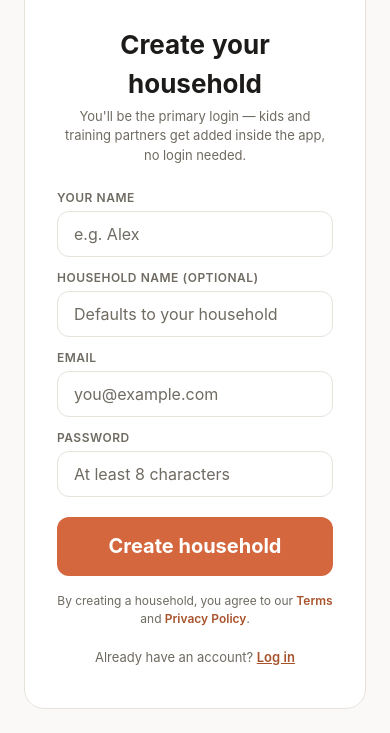
RegisterPage validation › shows inline errors and does not submit when required fields are blank
(page scrolled)
What coordinates should you click on to do the following:
click the button "Create household"
I would click on:
 (195, 547)
Its box is [57,517,333,576].
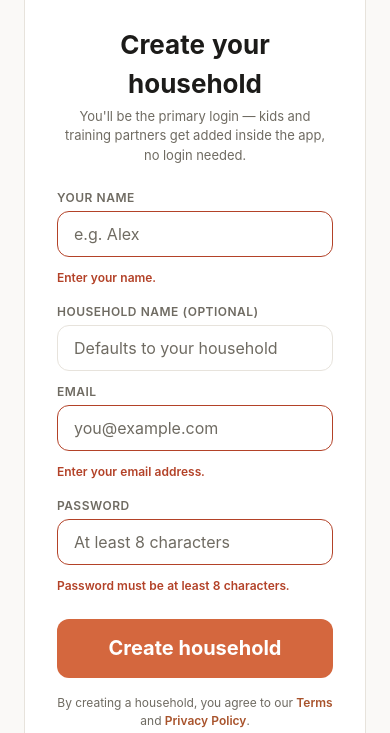
Expected: the text "Enter your name." is shown, [57,270,156,285]
Expected: the text "Enter your email address." is shown, [57,464,204,479]
Expected: the text "Password must be at least 8 characters." is shown, [57,578,289,593]
